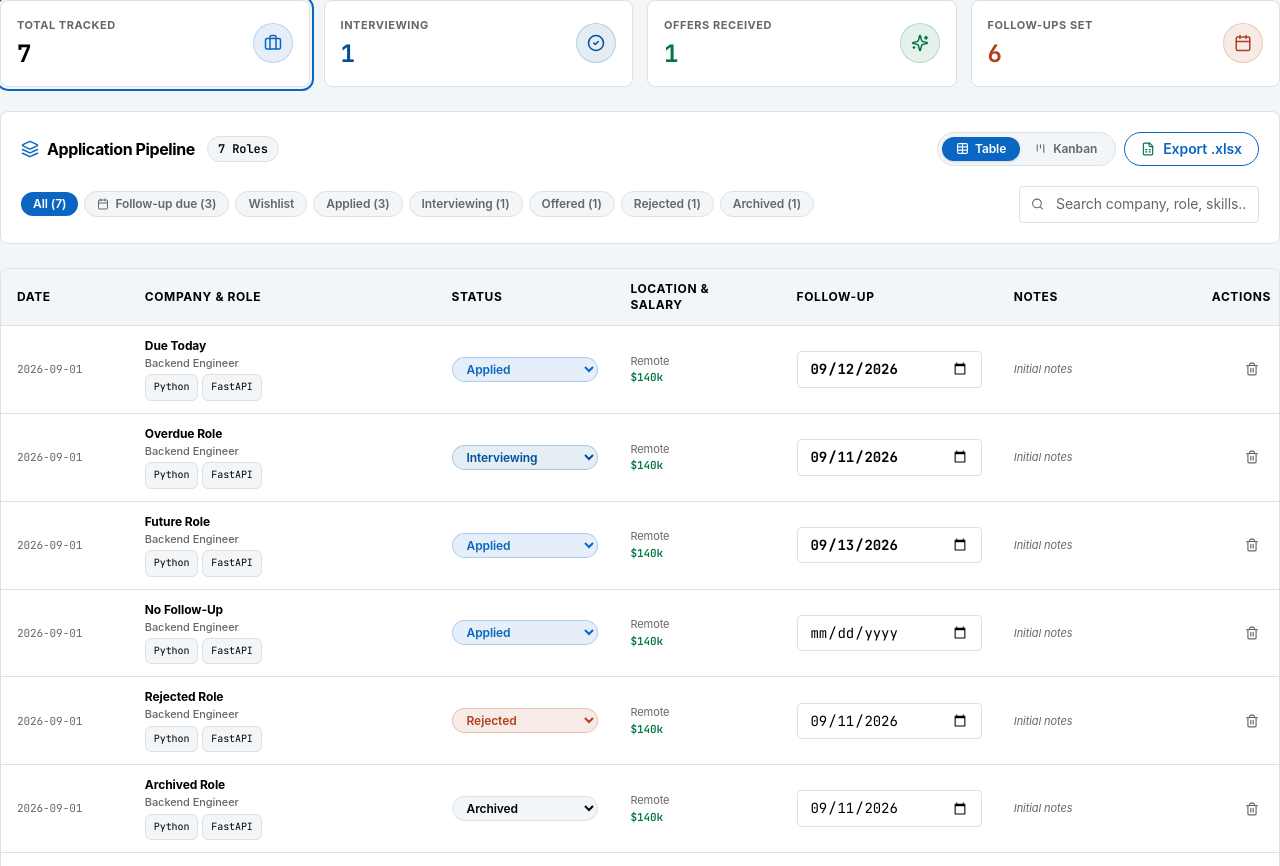
Scenario: ApplicationsTracker state synchronization and local dates (B12, B13, B15) › uses the Follow-ups Set 6 card to replace existing filters and search
Click the button "Follow-up due (3)" at (157,204), box [84,192,230,218]
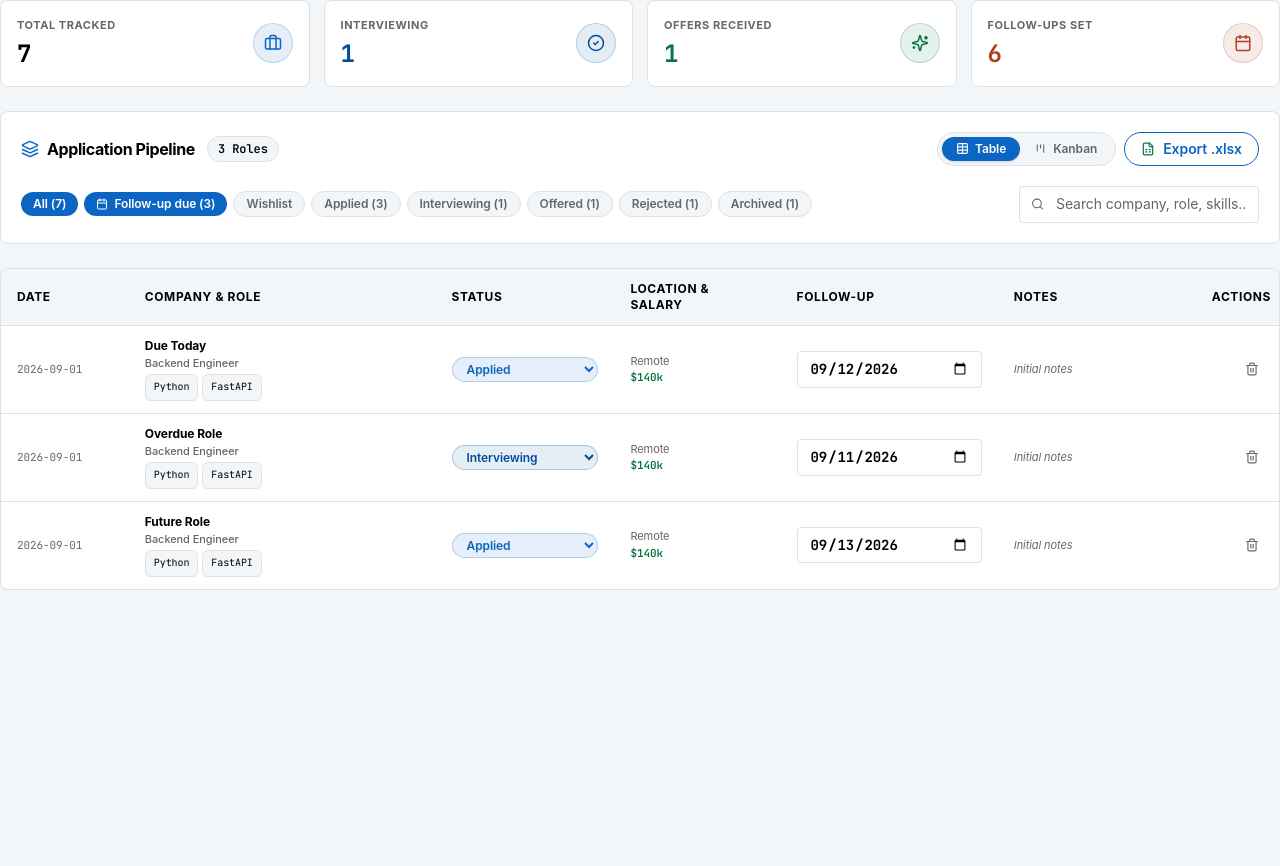
Click the button "Applied (3)" at (356,204), box [311,192,401,218]
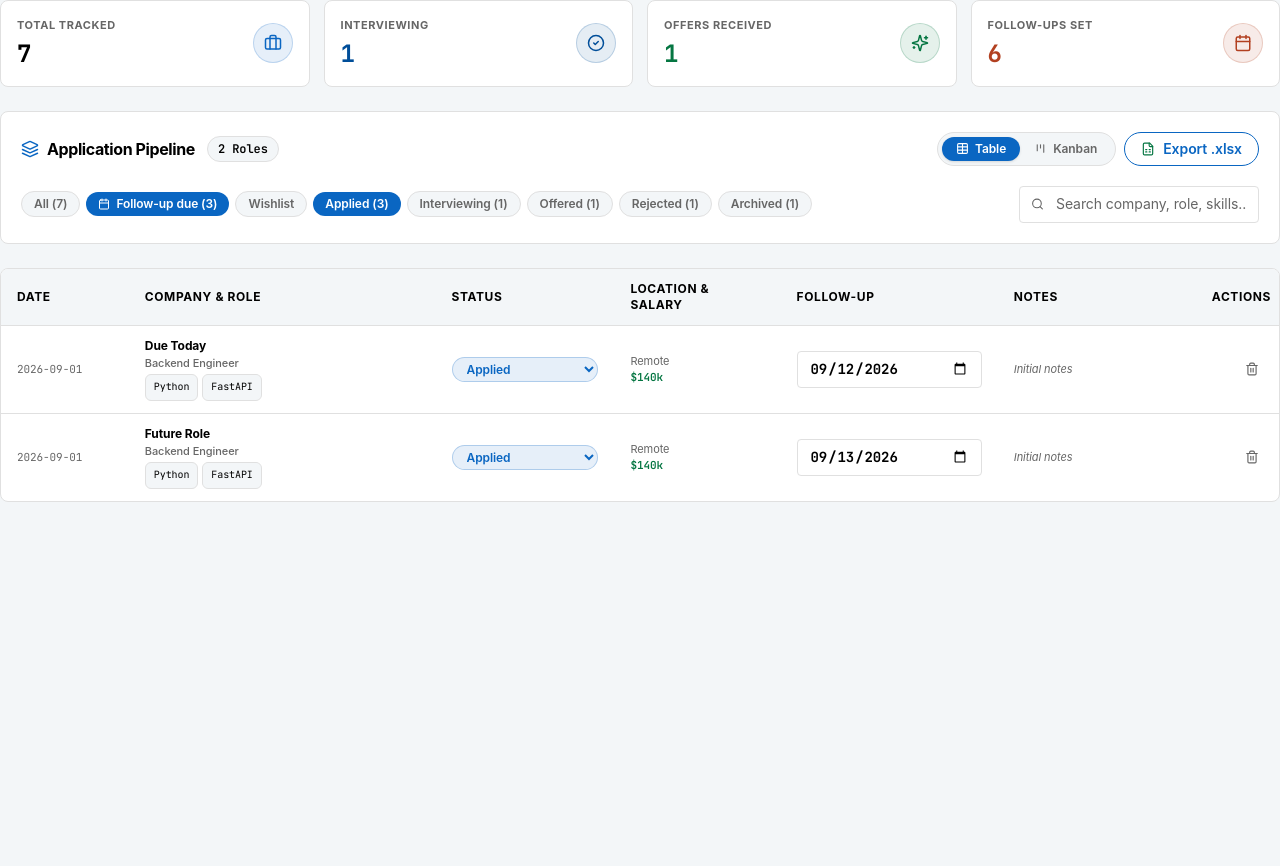
Type "nonmatching search" into the field with placeholder "Search company, role, skills..." at (1139,205), box [1019,186,1259,223]
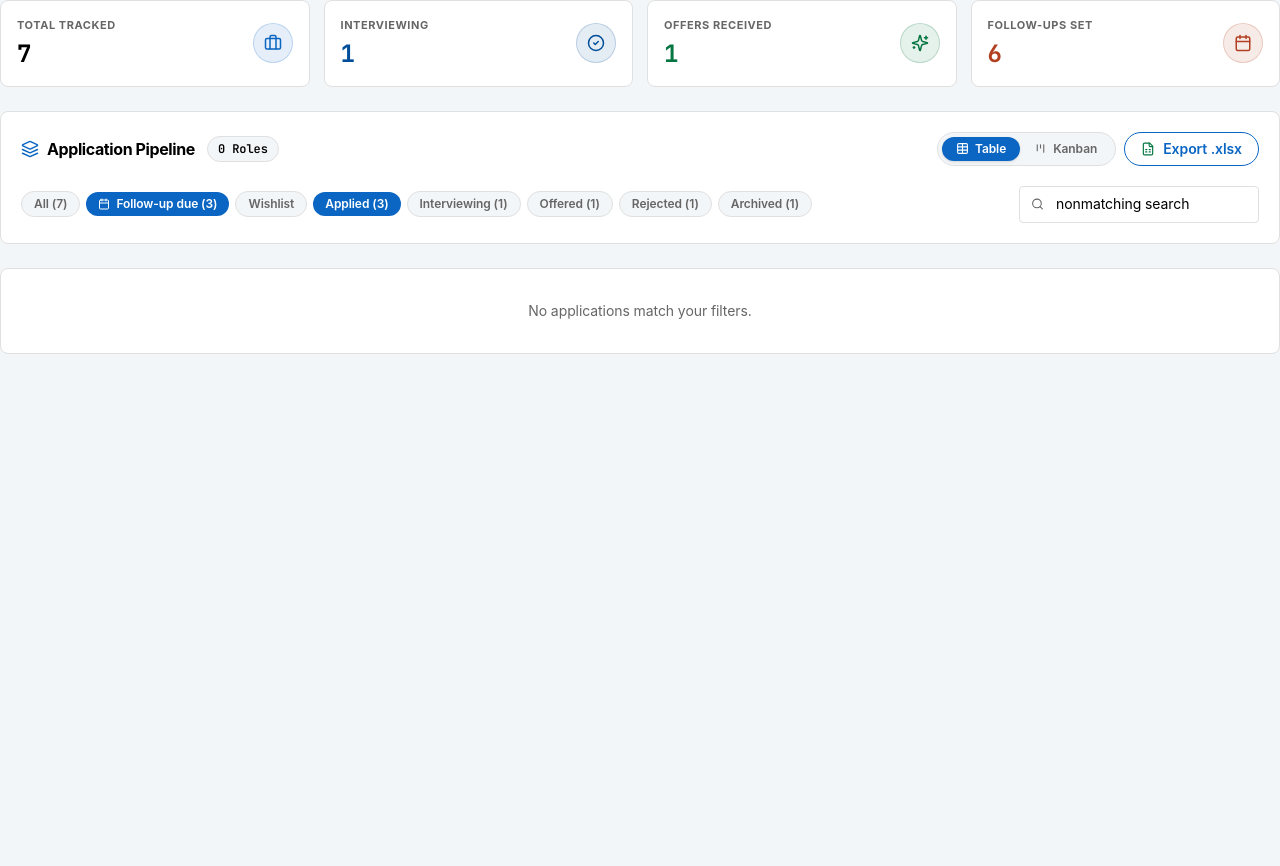
Click the button "Follow-ups Set 6" at (1040,25), box [970,0,1279,86]
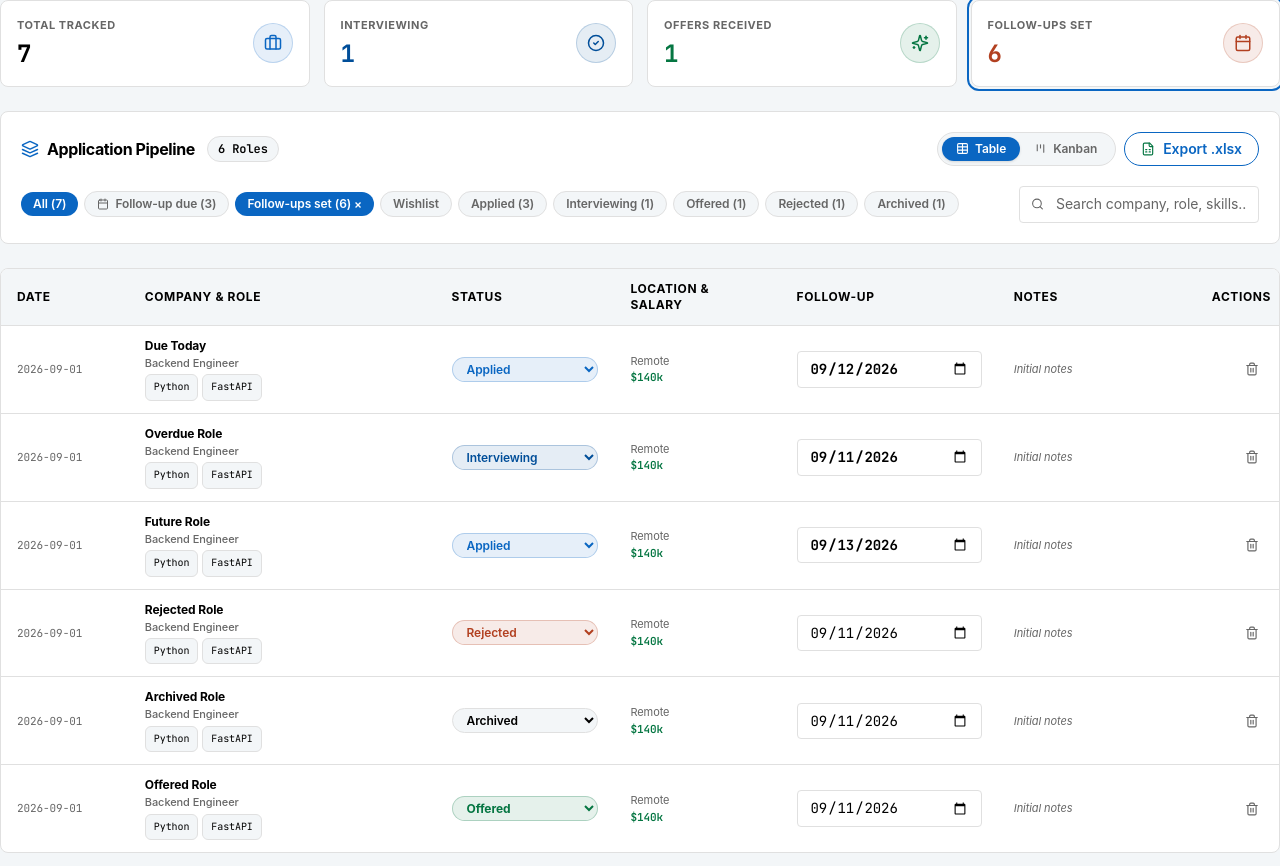
Now the field with placeholder "Search company, role, skills..." is empty, box [1019,186,1259,223]
Now the text "Due Today" is shown, box [145,338,206,354]
Now the text "Overdue Role" is shown, box [145,426,222,442]
